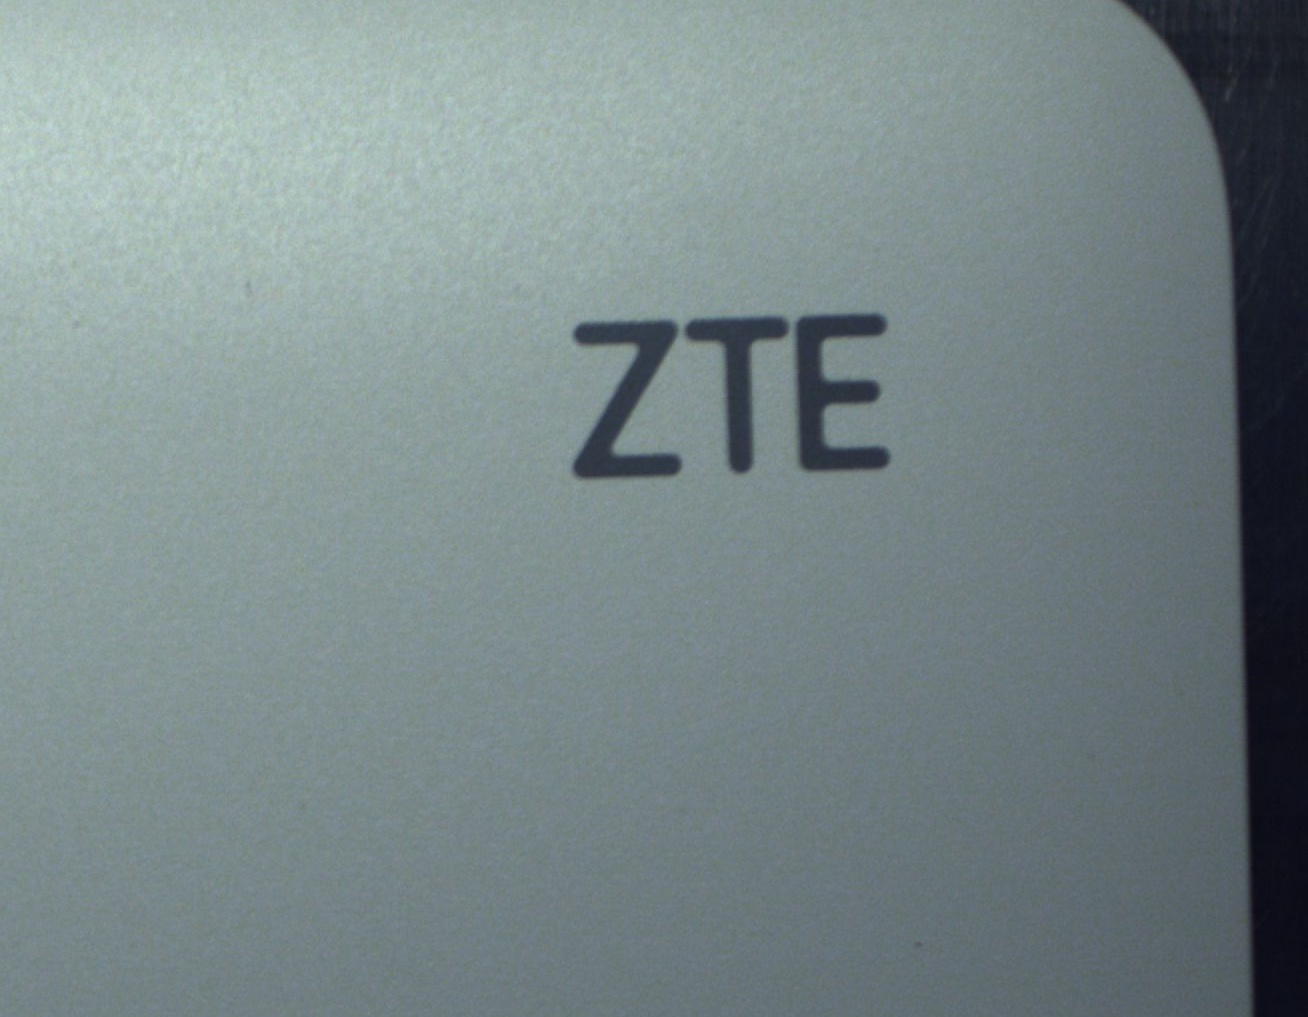AN_ZTE: (562, 289, 913, 487)
